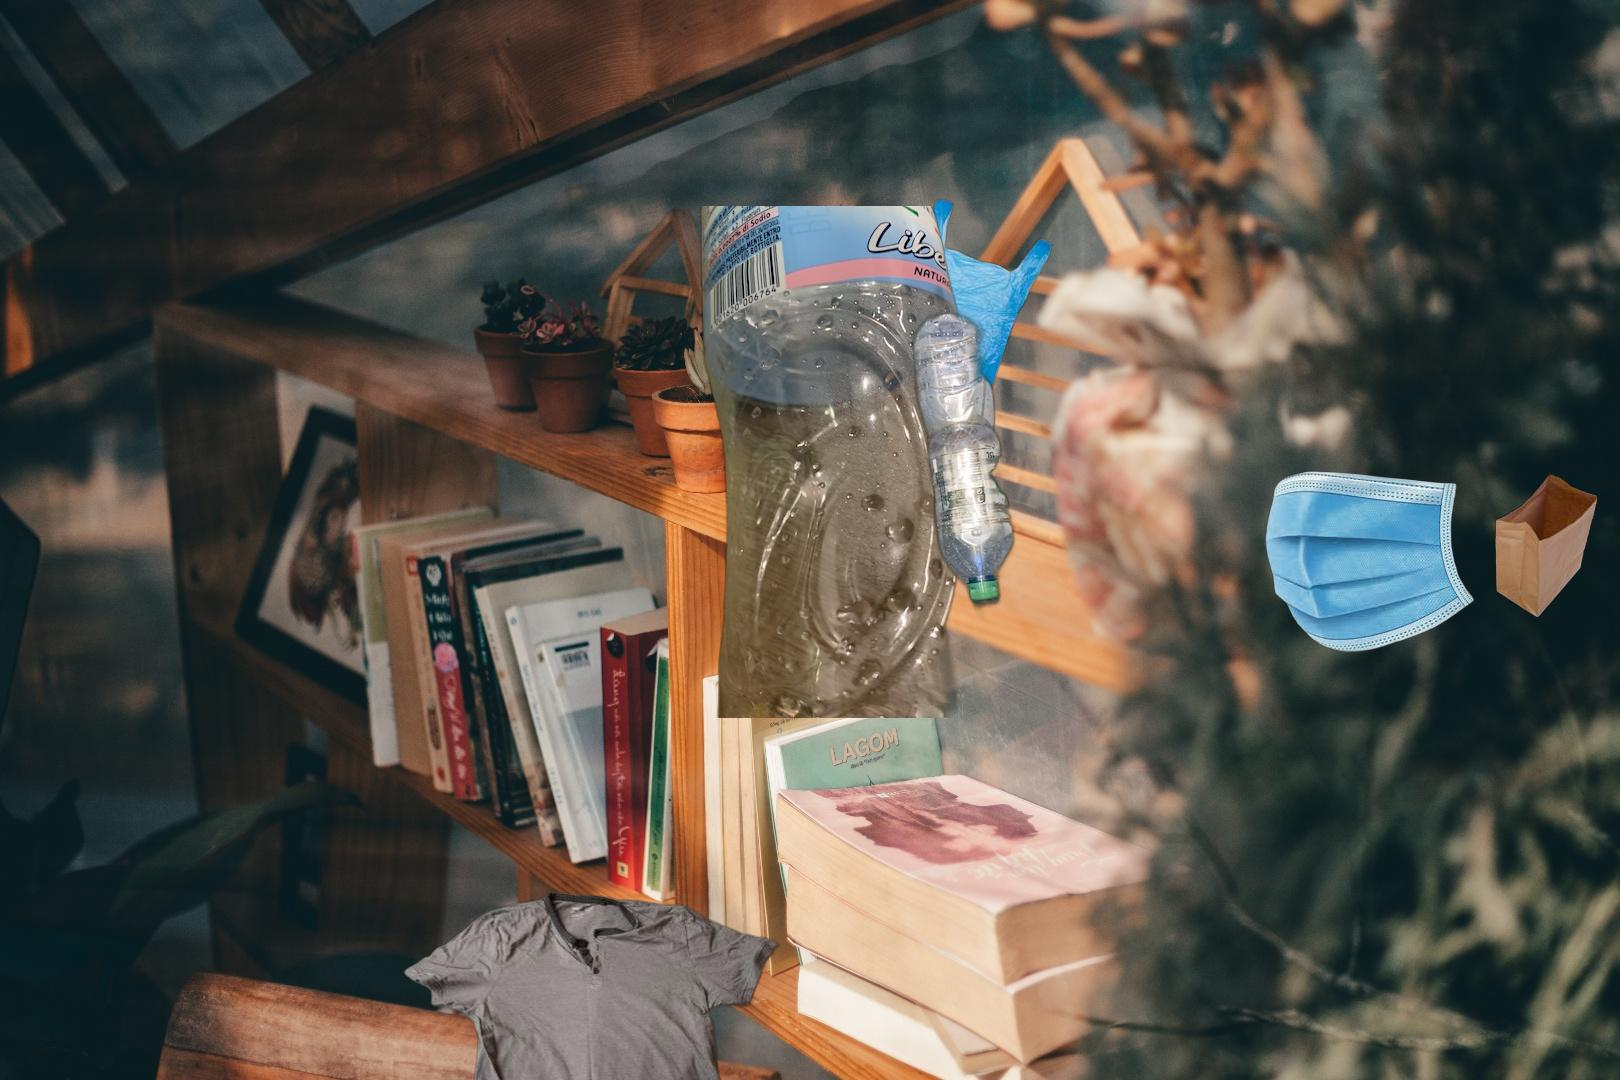clothes: (400, 888, 783, 1080)
paper-bag: (1492, 472, 1600, 620)
plastic-bag: (875, 196, 1055, 401)
plastic-bottles: (698, 206, 968, 718), (908, 275, 1019, 632)
trash: (1264, 468, 1514, 652)
